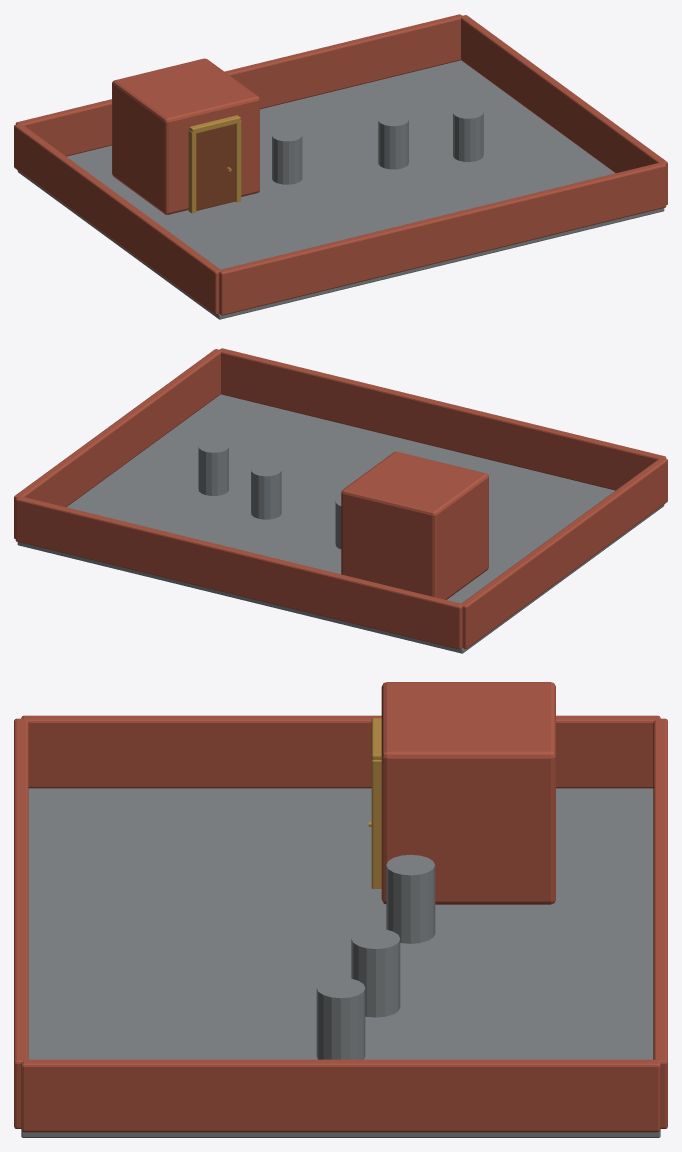
The model's file is apartment_rooftop_a.glb.
3 renders of one model, top to bottom at view 1: azimuth 30°, elevation 25°; view 2: azimuth 150°, elevation 25°; view 3: azimuth 270°, elevation 25°, orthographic. The views are drawn at different scales.
Parts seen in each view (by area): view 1: SET_RoofDeck, SET_Parapet_0_-5.5, SET_RooftopEntry, SET_Parapet_0_5.5, SET_Parapet_-7.0_0, SET_Parapet_7.0_0, SET_Roof_Door, SET_Vent_0, SET_Vent_1, SET_Vent_2, SET_Roof_Jamb_L, SET_Roof_Jamb_R (+1 smaller); view 2: SET_RoofDeck, SET_Parapet_0_5.5, SET_Parapet_0_-5.5, SET_RooftopEntry, SET_Parapet_-7.0_0, SET_Parapet_7.0_0, SET_Vent_1, SET_Vent_2; view 3: SET_RoofDeck, SET_Parapet_7.0_0, SET_RooftopEntry, SET_Parapet_-7.0_0, SET_Parapet_0_5.5, SET_Parapet_0_-5.5, SET_Vent_0, SET_Vent_2, SET_Vent_1, SET_Roof_Jamb_R.
Boxes of the visible parts, x1,y1,x2,y2 form: SET_RoofDeck: (17,60,664,319); SET_Parapet_0_-5.5: (219,162,666,315); SET_RooftopEntry: (112,58,259,214); SET_Parapet_0_5.5: (15,14,462,156); SET_Parapet_-7.0_0: (14,124,220,314); SET_Parapet_7.0_0: (461,15,667,204); SET_Roof_Door: (196,124,235,210); SET_Vent_0: (272,128,302,184); SET_Vent_1: (378,113,408,169); SET_Vent_2: (453,106,483,161); SET_Roof_Jamb_L: (188,130,196,213); SET_Roof_Jamb_R: (235,120,241,202); SET_RoofDeck: (17,394,664,653); SET_Parapet_0_5.5: (15,496,462,649); SET_Parapet_0_-5.5: (219,348,666,490); SET_RooftopEntry: (341,451,488,599); SET_Parapet_-7.0_0: (461,458,667,648); SET_Parapet_7.0_0: (14,349,220,538); SET_Vent_1: (251,463,281,519); SET_Vent_2: (198,440,228,495); SET_RoofDeck: (21,788,660,1137); SET_Parapet_7.0_0: (21,1059,660,1132); SET_RooftopEntry: (381,682,555,904); SET_Parapet_-7.0_0: (21,715,660,788); SET_Parapet_0_5.5: (653,718,667,1128); SET_Parapet_0_-5.5: (14,718,28,1128); SET_Vent_0: (386,854,435,943); SET_Vent_2: (316,977,365,1059); SET_Vent_1: (351,928,400,1017); SET_Roof_Jamb_R: (371,760,381,888).
Size of what is drawn, in the model's own units: 14.25 by 3.06 by 11.25.
